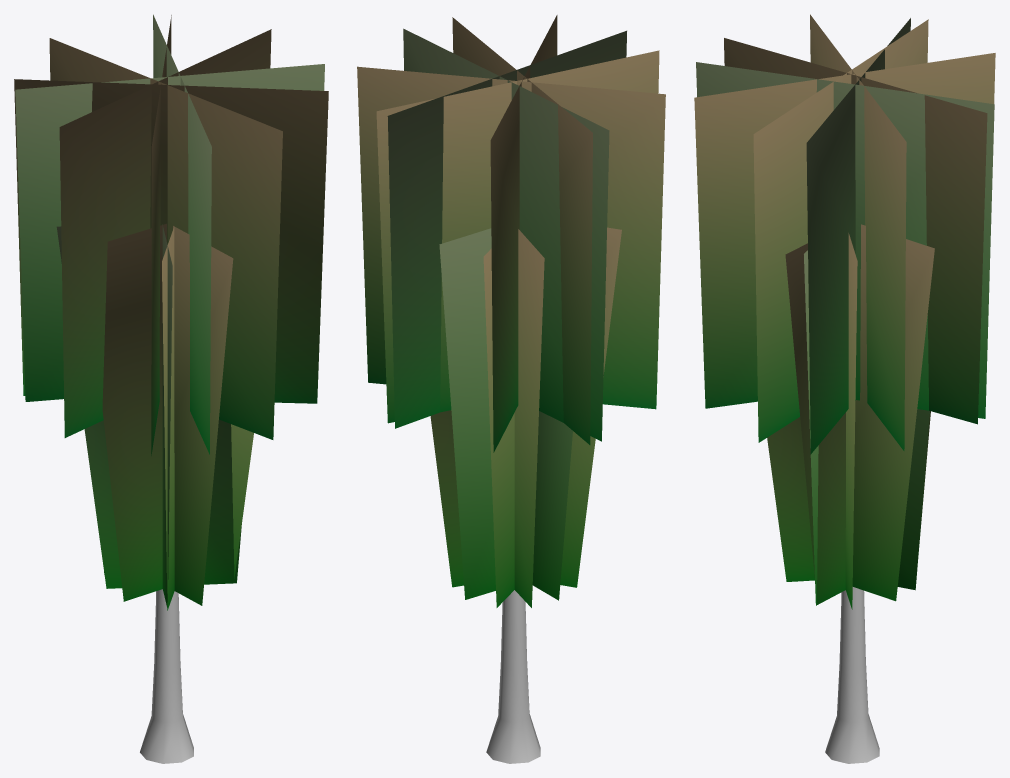
File: S_Palm_2_1.fbx
3 renders of one model, left to right at view 1: azimuth 30°, elevation 25°; view 2: azimuth 150°, elevation 25°; view 3: azimuth 270°, elevation 25°, orthographic.
Parts seen in each view (by area): view 1: Atlas_1, Atlas_0; view 2: Atlas_1, Atlas_0; view 3: Atlas_1, Atlas_0.
Boxes of the visible parts, box(x1,y1,x2,y2) form: Atlas_1: box(14, 14, 328, 610); Atlas_0: box(140, 589, 193, 763); Atlas_1: box(357, 15, 665, 607); Atlas_0: box(486, 590, 540, 763); Atlas_1: box(694, 14, 995, 609); Atlas_0: box(825, 587, 879, 763).
Bounding box in the file's own units: 272 × 663 × 268.
